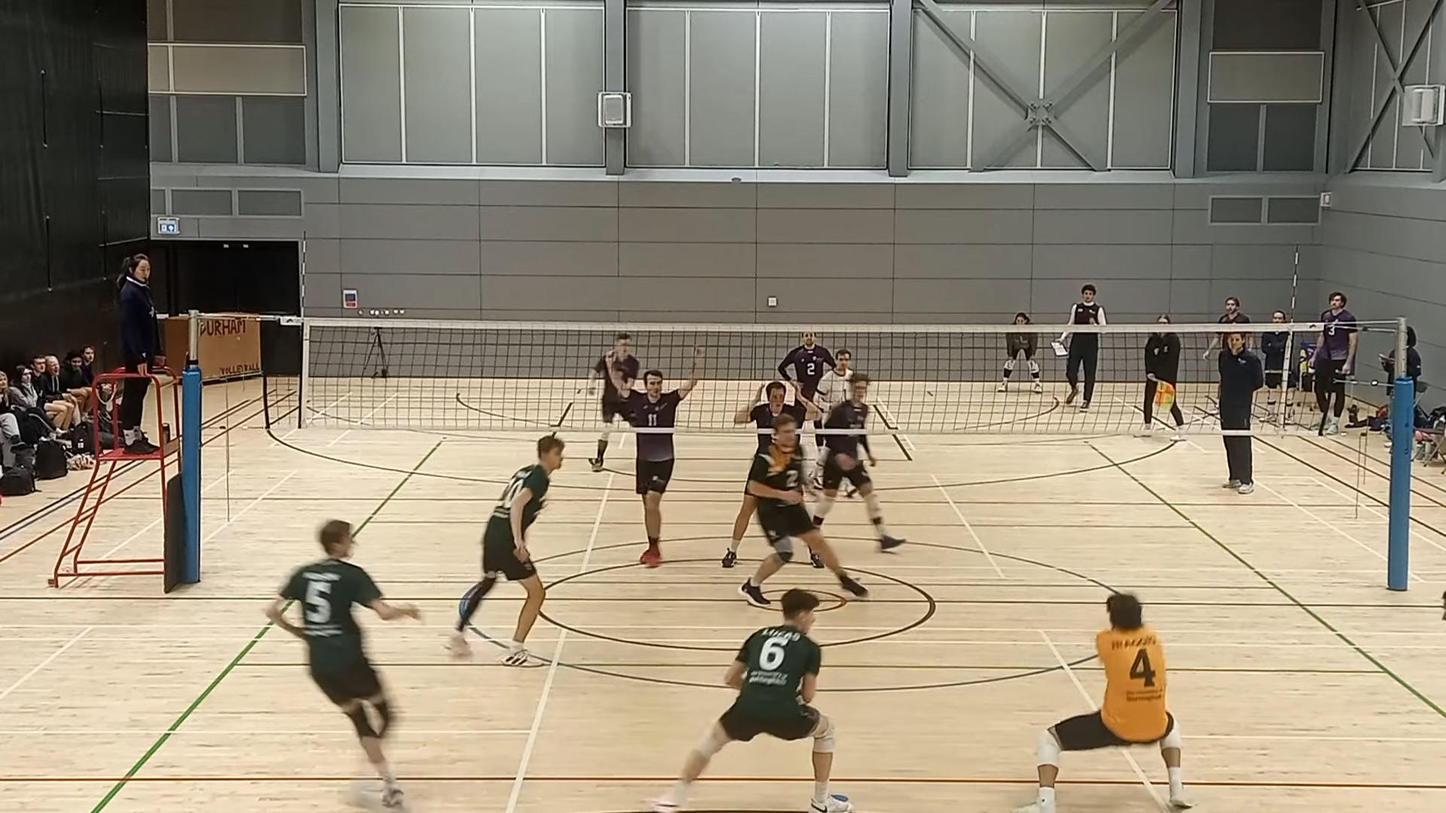Player: (652, 589, 852, 812), (266, 520, 419, 808), (449, 434, 564, 665), (739, 415, 867, 607), (624, 348, 703, 567), (813, 373, 905, 550), (589, 333, 639, 472), (734, 382, 818, 452), (777, 331, 836, 400), (811, 349, 853, 428)
Receive: (1019, 593, 1193, 810)
